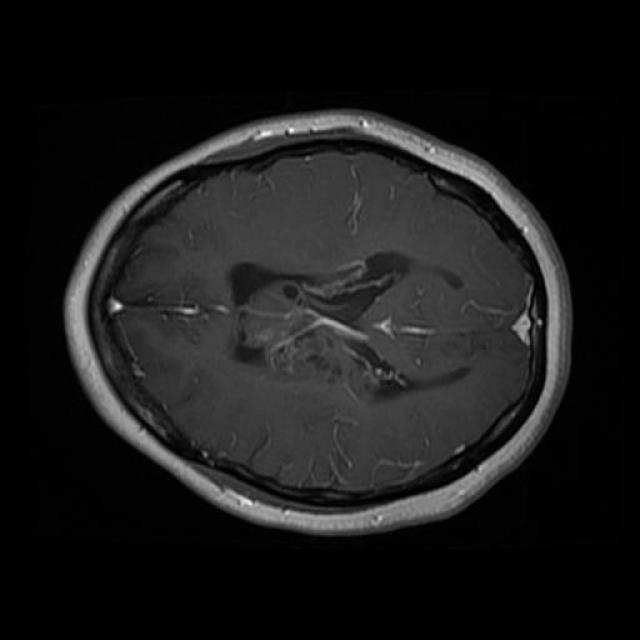Glioma: (234, 258, 409, 392)
